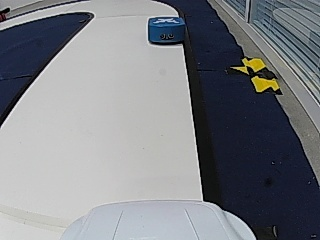prop: (147, 16, 185, 46)
